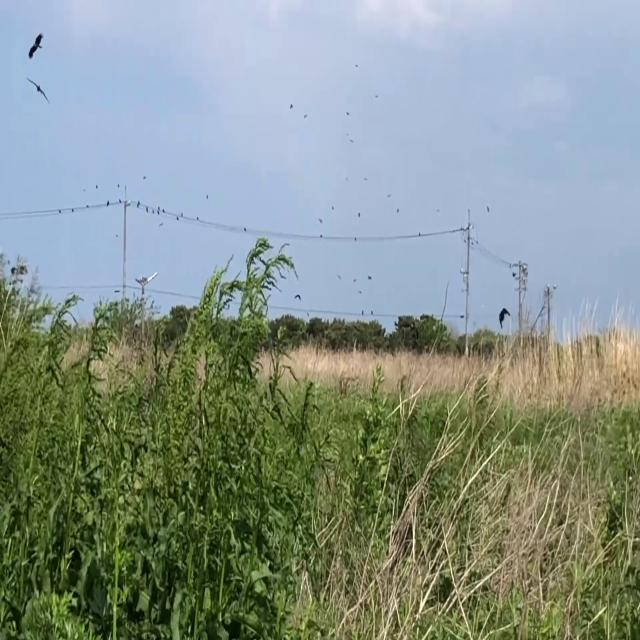bird: (29, 72, 49, 109), (28, 24, 43, 69), (498, 299, 510, 332), (295, 287, 302, 303)
